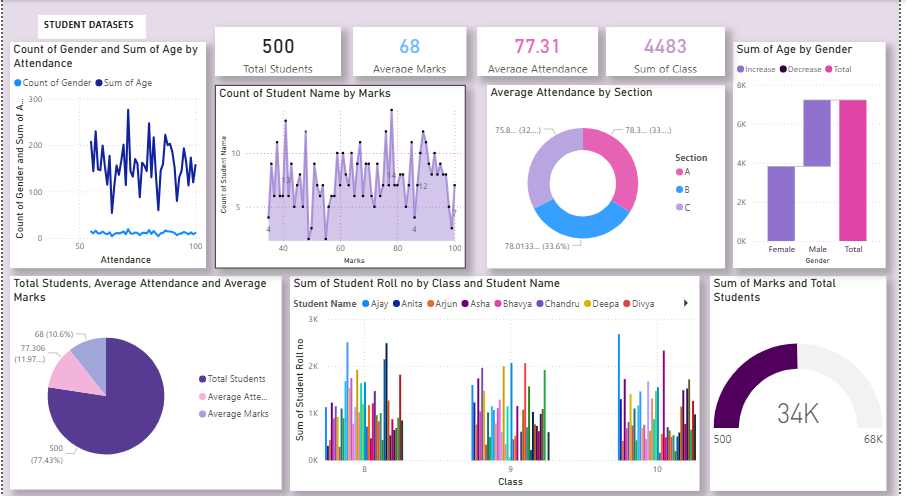

The page's visual inventory and layout, read from the dashboard file:
{"tool":"powerbi","page":{"name":"Page 1","canvas":[1280,720],"ordinal":0},"visuals":[{"type":"lineChart","fields":{"Category":["StudentDataExtraLarge.Attendance"],"Y":["CountNonNull(StudentDataExtraLarge.Gender)","Sum(StudentDataExtraLarge.Age)"]},"box":[10,61.7,280,323.3],"z":0},{"type":"pieChart","fields":{"Y":["StudentDataExtraLarge.Total Students","StudentDataExtraLarge.Average Attendance","StudentDataExtraLarge.Average Marks"]},"box":[10,395,388.3,305],"z":1000},{"type":"card","fields":{"Values":["StudentDataExtraLarge.Average Attendance"]},"box":[676.7,40,173.3,70],"z":2000},{"type":"card","fields":{"Values":["StudentDataExtraLarge.Total Students"]},"box":[303.3,40,180,70],"z":3000},{"type":"donutChart","fields":{"Category":["StudentDataExtraLarge.Section"],"Y":["StudentDataExtraLarge.Average Attendance"]},"box":[691.7,123.3,340,261.7],"z":4000},{"type":"clusteredColumnChart","fields":{"Category":["StudentDataExtraLarge.Class"],"Series":["StudentDataExtraLarge.Student Name"],"Y":["Sum(StudentDataExtraLarge.Student Roll no)"]},"box":[410,395,585,306.7],"z":5000},{"type":"stackedAreaChart","fields":{"Category":["StudentDataExtraLarge.Marks"],"Y":["CountNonNull(StudentDataExtraLarge.Student Name)"]},"box":[303.3,123.3,358.3,261.7],"z":6000},{"type":"card","fields":{"Values":["StudentDataExtraLarge.Average Marks"]},"box":[500,40,161.7,70],"z":7000},{"type":"gauge","fields":{"MinValue":["StudentDataExtraLarge.Total Students"],"Y":["Sum(StudentDataExtraLarge.Marks)"]},"box":[1010,395,251.7,306.7],"z":8000},{"type":"waterfallChart","fields":{"Category":["StudentDataExtraLarge.Gender"],"Y":["Sum(StudentDataExtraLarge.Age)"]},"box":[1043.3,61.7,218.3,323.3],"z":9000},{"type":"card","fields":{"Values":["Sum(StudentDataExtraLarge.Class)"]},"box":[861.7,40,170,70],"z":9001},{"type":"textbox","box":[50,22.9,154.3,34.3],"z":9002}]}

Visuals, with their boxes in screenshot pixels (x1, y1, x2, y2), scaled from the page's 1280x720 canvas onto the 906x496 screenshot:
lineChart - StudentDataExtraLarge.Attendance x CountNonNull(StudentDataExtraLarge.Gender): 7:43:205:265
pieChart - StudentDataExtraLarge.Total Students x StudentDataExtraLarge.Average Attendance: 7:272:282:482
card - StudentDataExtraLarge.Average Attendance: 479:28:602:76
card - StudentDataExtraLarge.Total Students: 215:28:342:76
donutChart - StudentDataExtraLarge.Section x StudentDataExtraLarge.Average Attendance: 490:85:730:265
clusteredColumnChart - StudentDataExtraLarge.Class x StudentDataExtraLarge.Student Name: 290:272:704:483
stackedAreaChart - StudentDataExtraLarge.Marks x CountNonNull(StudentDataExtraLarge.Student Name): 215:85:468:265
card - StudentDataExtraLarge.Average Marks: 354:28:468:76
gauge - StudentDataExtraLarge.Total Students x Sum(StudentDataExtraLarge.Marks): 715:272:893:483
waterfallChart - StudentDataExtraLarge.Gender x Sum(StudentDataExtraLarge.Age): 738:43:893:265
card - Sum(StudentDataExtraLarge.Class): 610:28:730:76
textbox: 35:16:145:39
